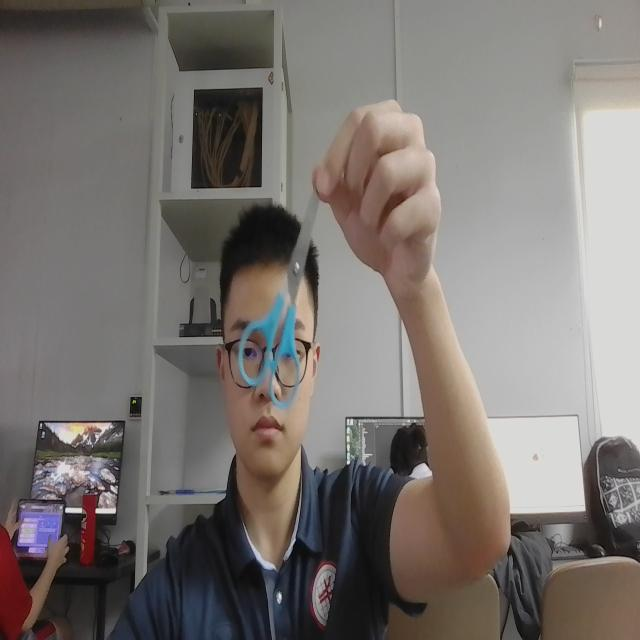scissors: (235, 162, 328, 410)
